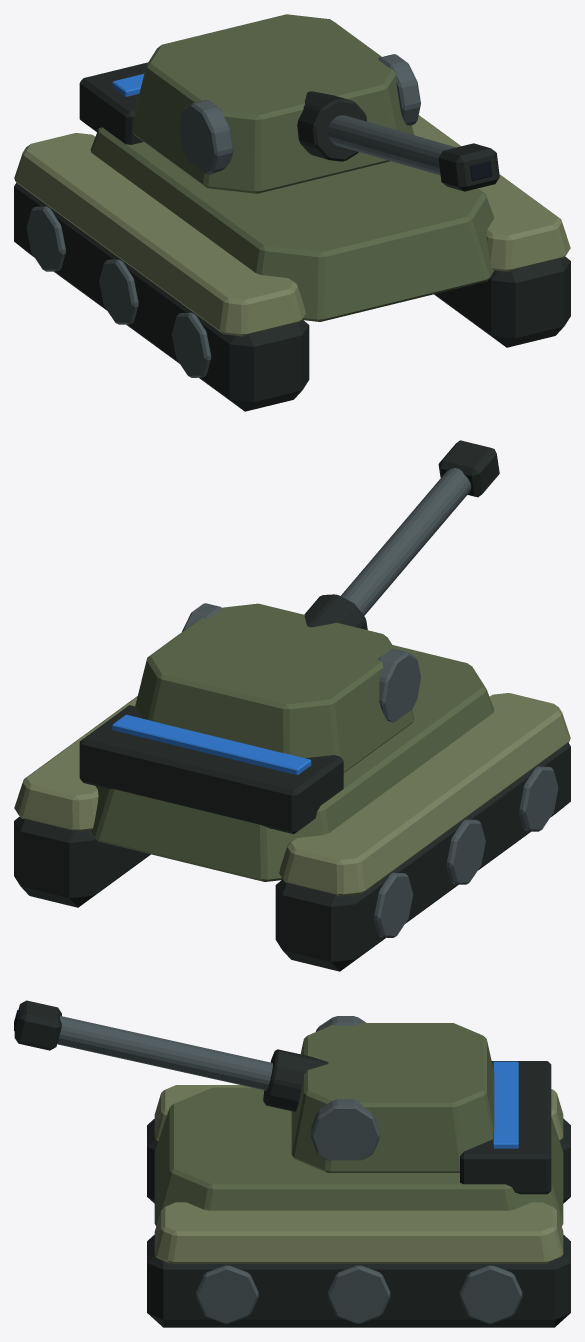
File: h_arty.glb
The picture shows the model from 3 angles, top to bottom: view 1: azimuth 30°, elevation 25°; view 2: azimuth 150°, elevation 25°; view 3: azimuth 270°, elevation 25°; orthographic projection. The views are drawn at different scales.
Visible parts, largest first — view 1: Chassis, Gun carriage, Gun; view 2: Chassis, Gun carriage, Gun; view 3: Chassis, Gun carriage, Gun.
Boxes of the visible parts, x1,y1,x2,y2 form: Chassis: [14, 62, 570, 411]; Gun carriage: [131, 14, 420, 193]; Gun: [297, 91, 499, 191]; Chassis: [14, 645, 570, 971]; Gun carriage: [135, 603, 420, 772]; Gun: [304, 440, 499, 630]; Chassis: [147, 1061, 570, 1327]; Gun carriage: [291, 1016, 494, 1172]; Gun: [14, 1000, 328, 1111].
Bounding box in the file's own units: 2.76 × 2.06 × 4.14.
